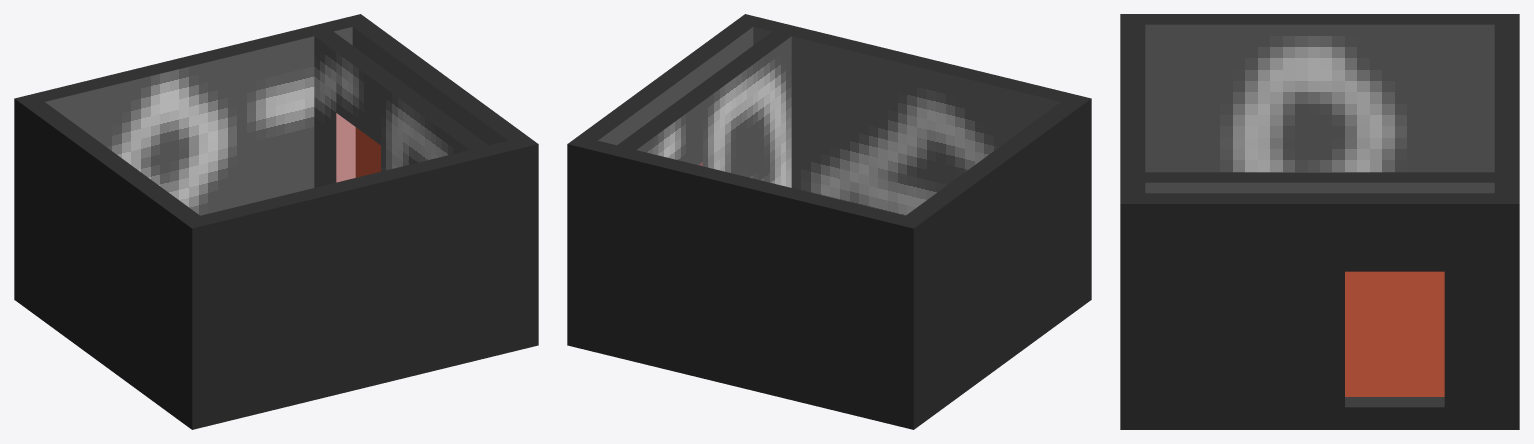
3 views of the same model, side by side, from view 1: azimuth 30°, elevation 25°; view 2: azimuth 150°, elevation 25°; view 3: azimuth 270°, elevation 25° (orthographic). The views are drawn at different scales.
Parts seen in each view (by area): view 1: cube (×2); view 2: cube; view 3: cube (×2).
Boxes of the visible parts, x1,y1,x2,y2 form: cube (×2): [14, 14, 538, 429]; cube: [567, 14, 1091, 429]; cube (×2): [1120, 14, 1519, 429].
Bounding box in the file's own units: 1.13 × 0.625 × 1.
Materials: 1 (1 with a texture image).
